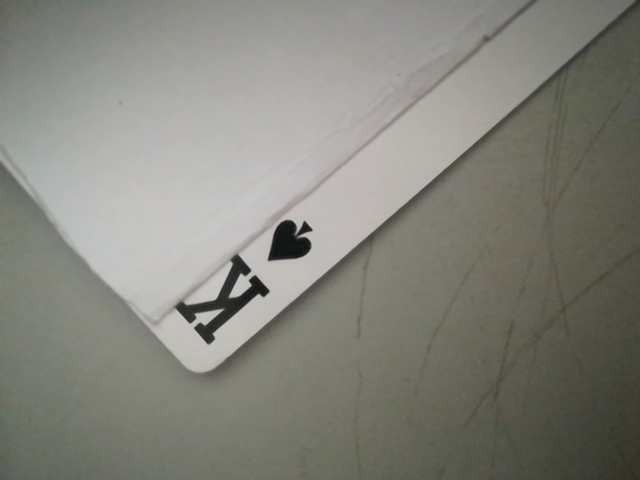ht k: (165, 212, 325, 371)
